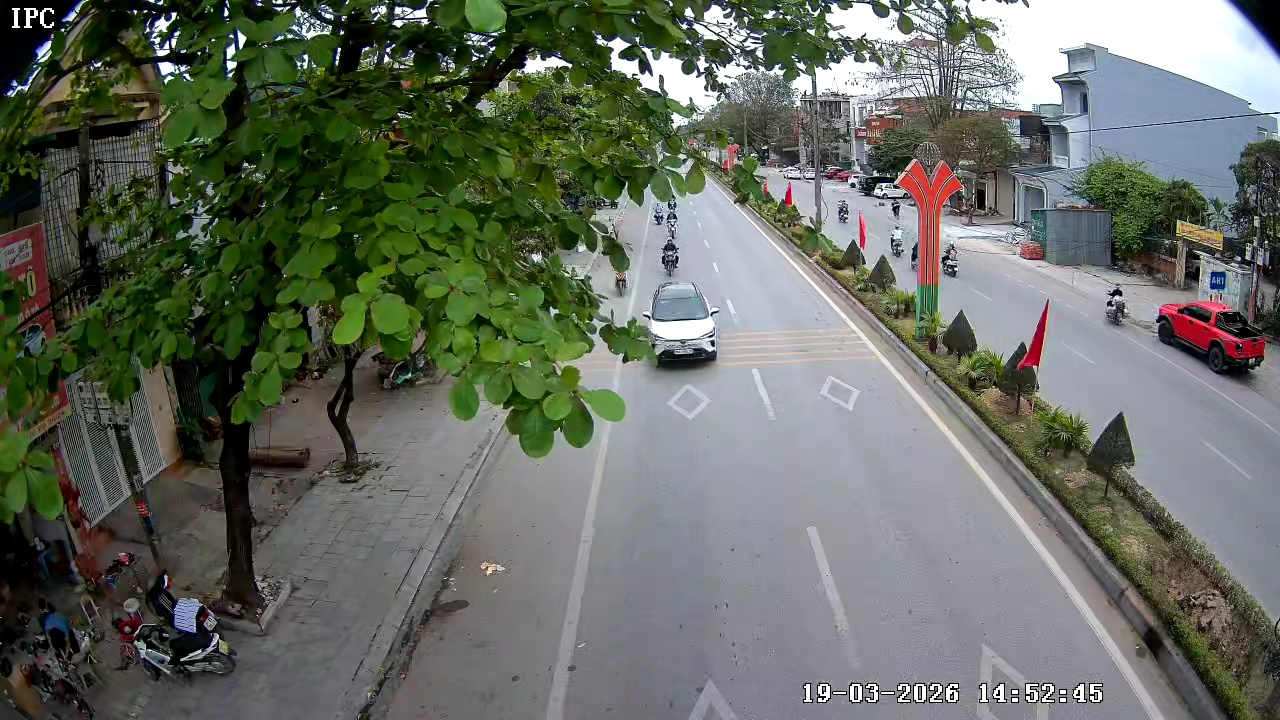bike: (609, 244, 633, 297)
car: (1151, 298, 1267, 378), (643, 278, 722, 366)
motorbike: (1103, 283, 1131, 329), (659, 232, 681, 275), (665, 209, 686, 244), (650, 202, 665, 225)
